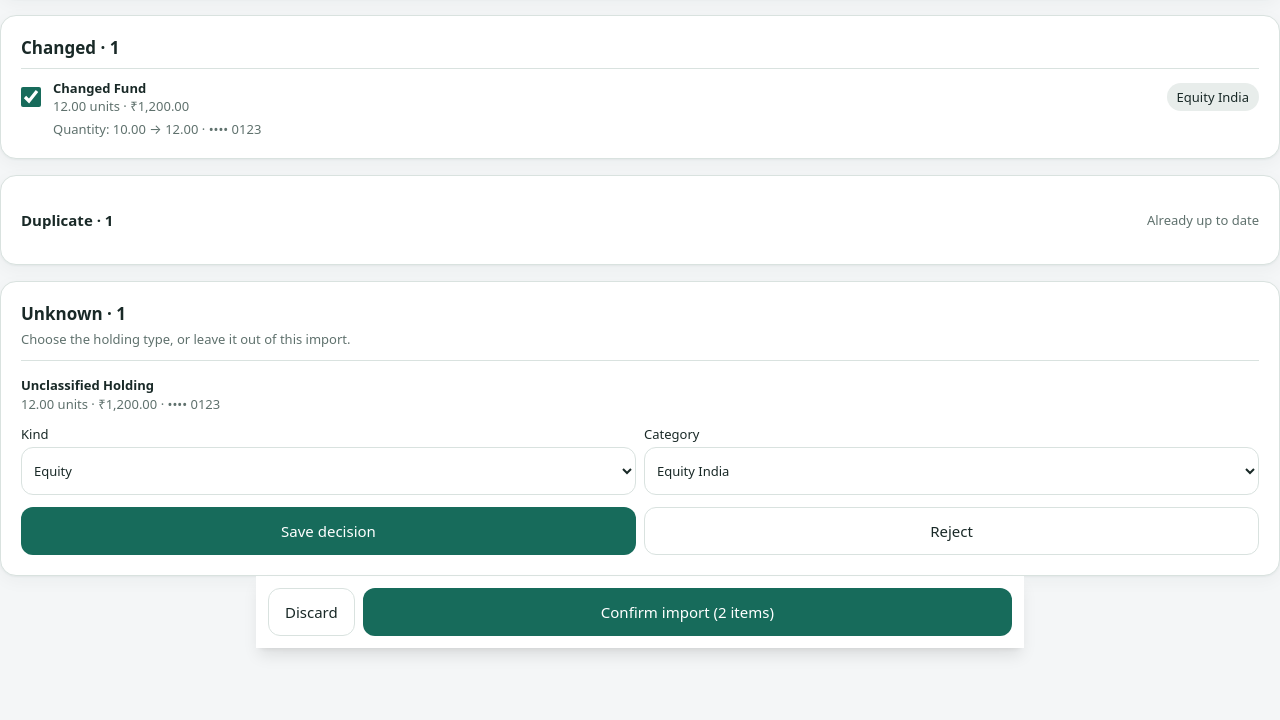
Scenario: statement import review › groups counts, patches an unknown override, confirms, and shows success
(page scrolled)
Expected: the heading "Changed · 1" is shown, left=21, top=36, right=119, bottom=59
Expected: the text "Duplicate · 1" is shown, left=21, top=209, right=113, bottom=231
Select "Mutual fund" in the dropdown labelled "Kind". click: (328, 471)
box: left=21, top=447, right=636, bottom=495
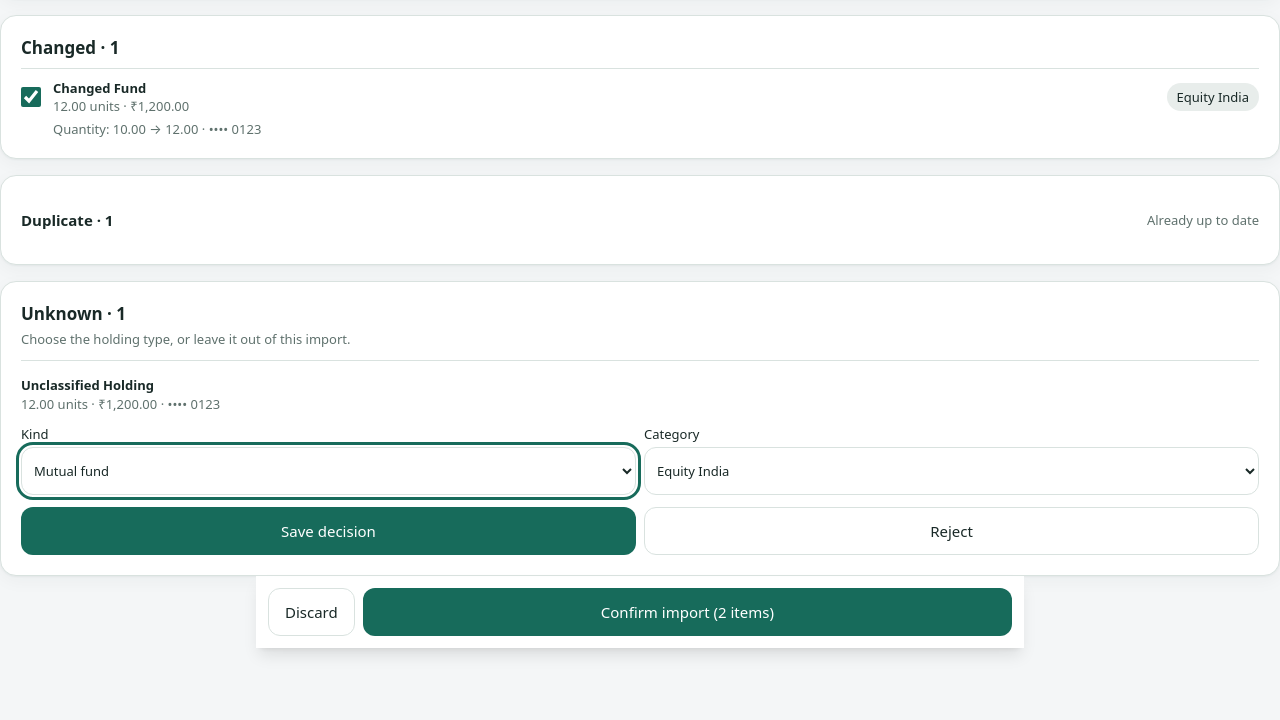
Select "Gold" in the dropdown labelled "Category". click: (952, 471)
box: left=644, top=447, right=1259, bottom=495
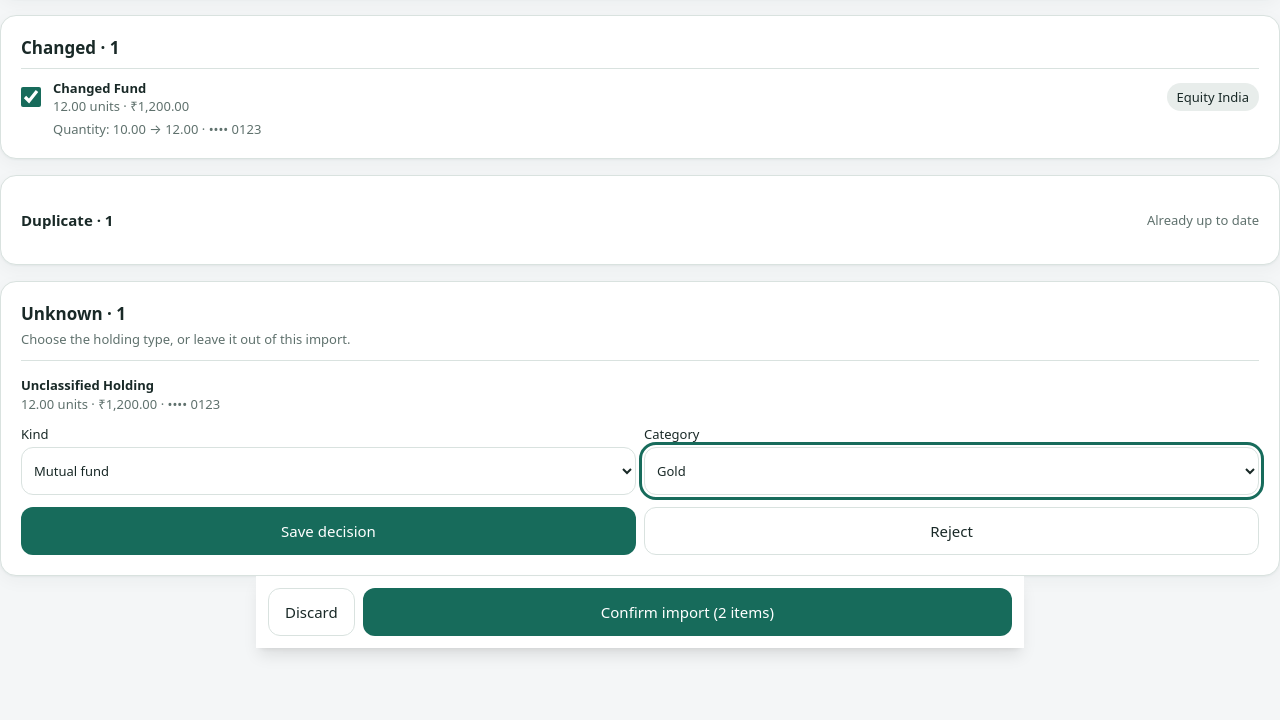
Click the button "Save decision". click: (328, 531)
box: left=21, top=507, right=636, bottom=555
(page scrolled)
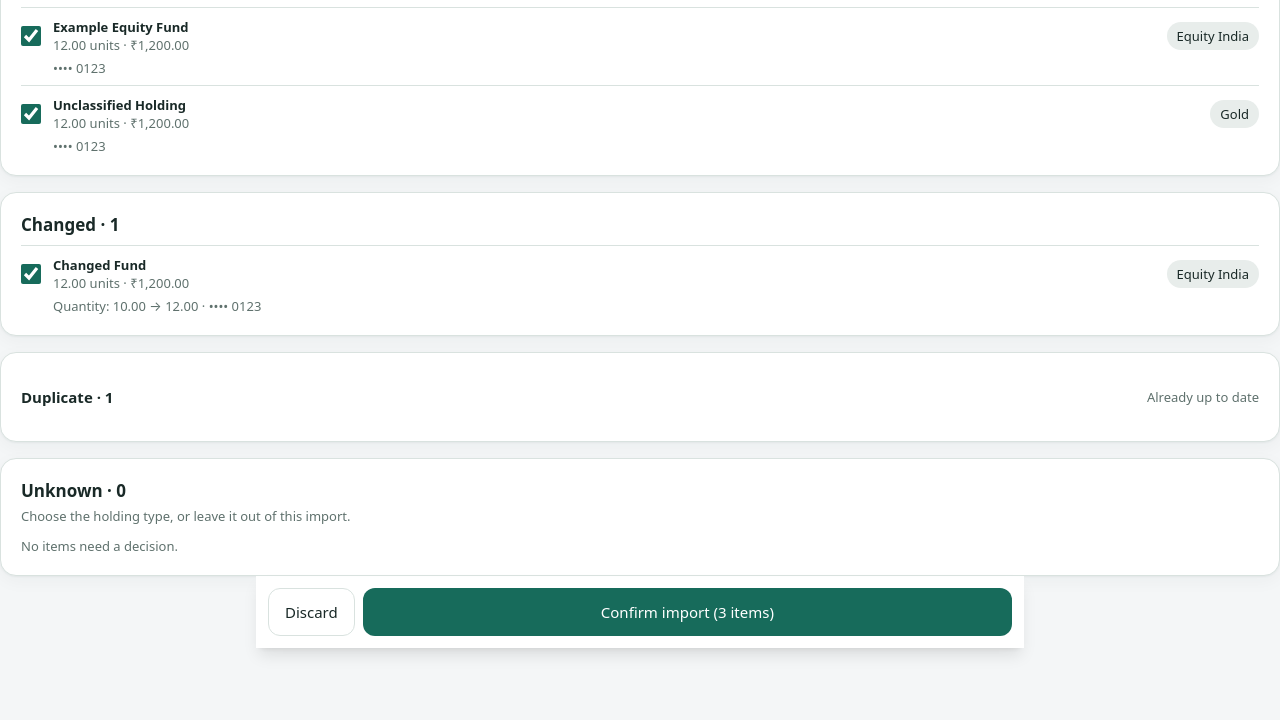
Now the heading "Unknown · 0" is shown, box left=21, top=479, right=126, bottom=502
Click the button "Confirm import (3 items)". click: (687, 612)
box: left=363, top=588, right=1012, bottom=636
(page scrolled)
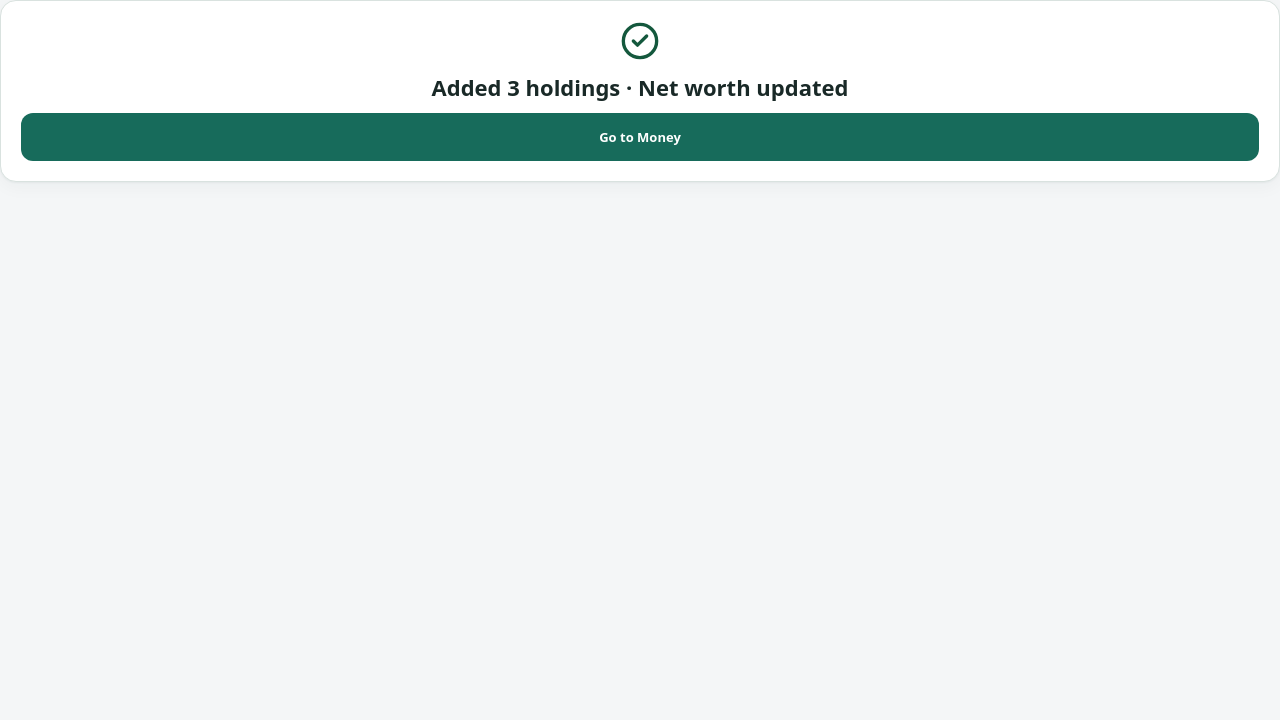
Now the heading "Added 3 holdings · Net worth updated" is shown, box left=432, top=72, right=848, bottom=102
